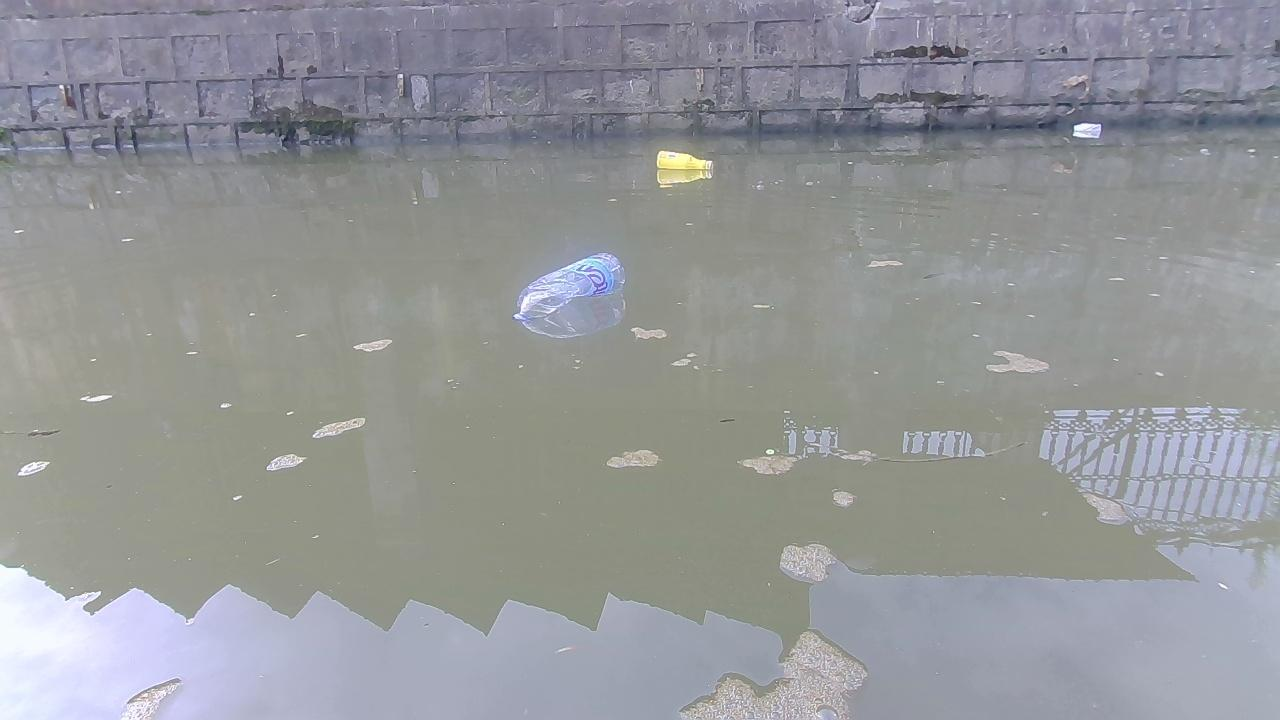bottle: (516, 246, 631, 326), (651, 148, 716, 177), (1068, 117, 1105, 140)
